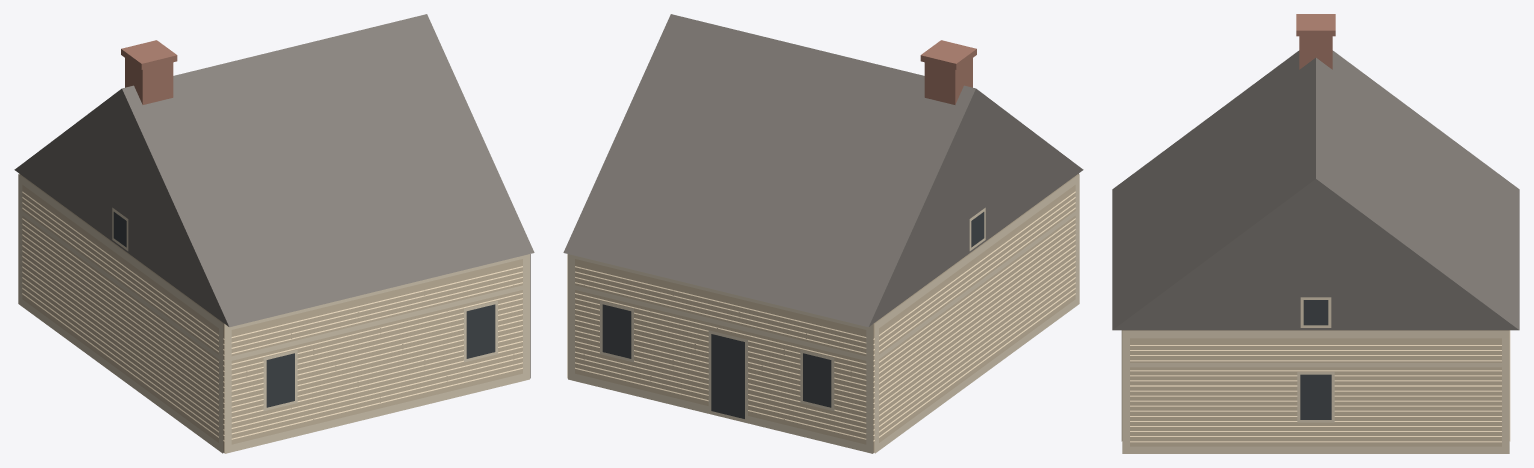
File: recon_1835_blk_randolph_dearborn_h1_14__inferred_1835.glb
3 renders of one model, left to right at view 1: azimuth 30°, elevation 25°; view 2: azimuth 150°, elevation 25°; view 3: azimuth 270°, elevation 25°, orthographic. The views are drawn at different scales.
Visible parts, largest first — view 1: recon_1835_blk_randolph_dearborn_h1_14__inferred_1835; view 2: recon_1835_blk_randolph_dearborn_h1_14__inferred_1835; view 3: recon_1835_blk_randolph_dearborn_h1_14__inferred_1835.
Part boxes in pixels (x1=…): recon_1835_blk_randolph_dearborn_h1_14__inferred_1835: x1=14, y1=14, x2=534, y2=453; recon_1835_blk_randolph_dearborn_h1_14__inferred_1835: x1=563, y1=14, x2=1083, y2=453; recon_1835_blk_randolph_dearborn_h1_14__inferred_1835: x1=1112, y1=14, x2=1519, y2=453.
Bounding box in the file's own units: 8.46 × 8.38 × 10.21.
